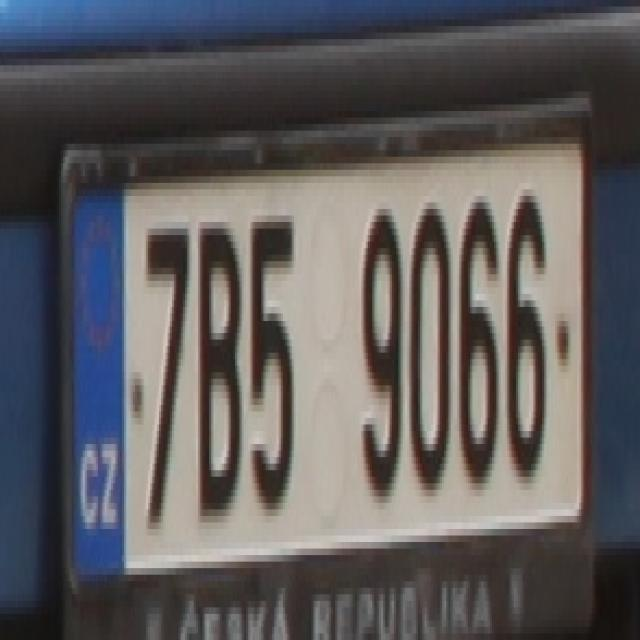0: (407, 196, 451, 490)
5: (246, 215, 294, 522)
6: (503, 176, 546, 490), (455, 189, 498, 490)
7: (142, 228, 185, 536)
9: (361, 203, 403, 497)
B: (196, 215, 242, 522)
